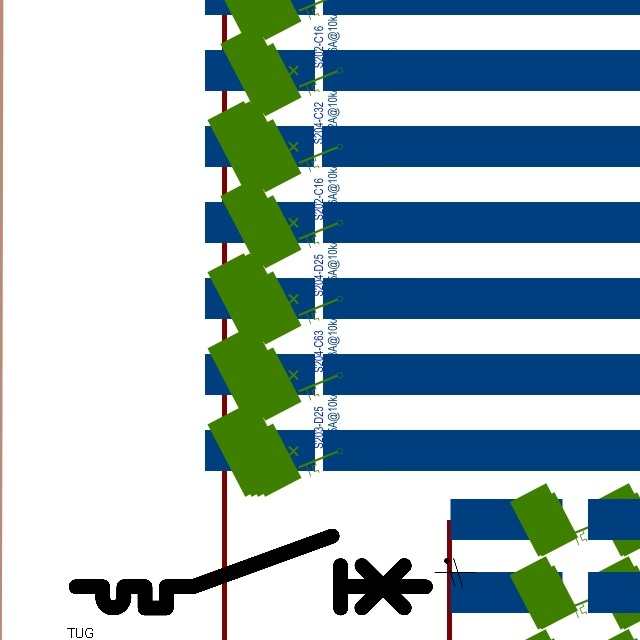interruptor_termomagnetico: (67, 527, 434, 617)
